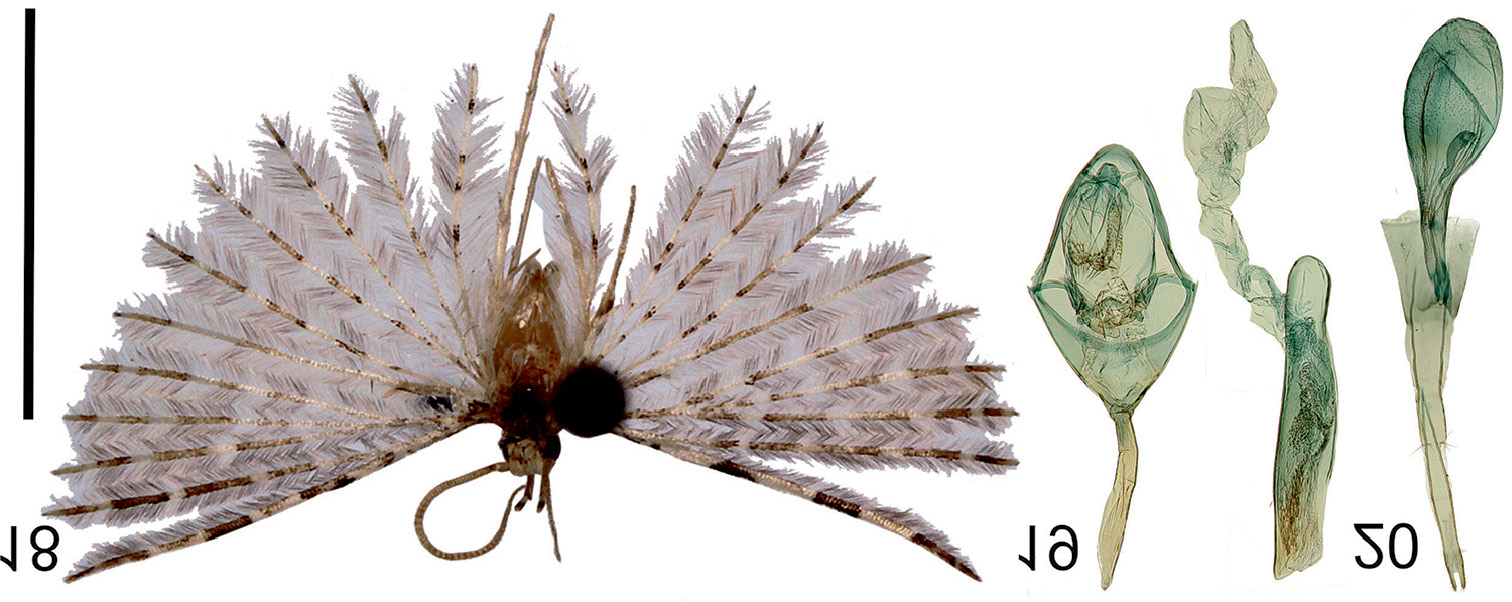Alucitidae: (54, 1, 1025, 587)
moth: (56, 3, 1027, 589)
